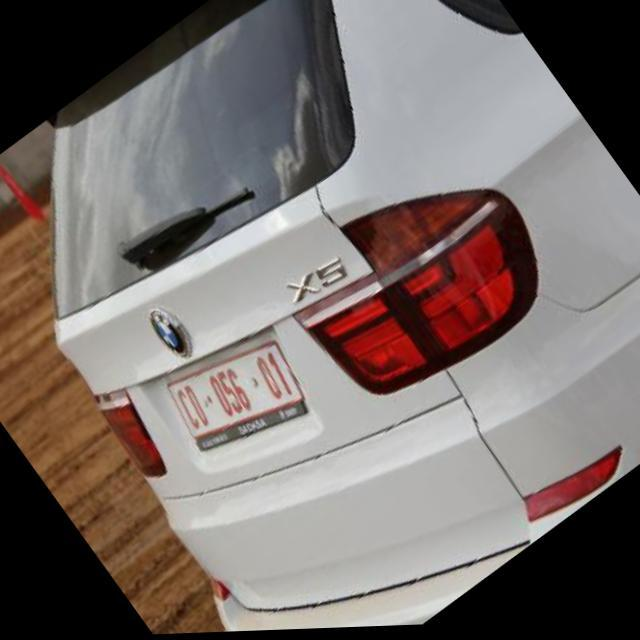license_plate: (153, 308, 324, 482)
